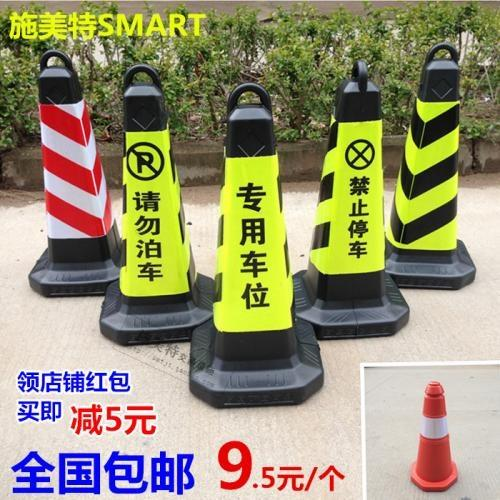cone_barrel: (195, 93, 321, 404), (295, 65, 406, 338), (102, 70, 209, 337), (25, 55, 129, 295), (382, 51, 482, 286), (406, 379, 464, 492)
